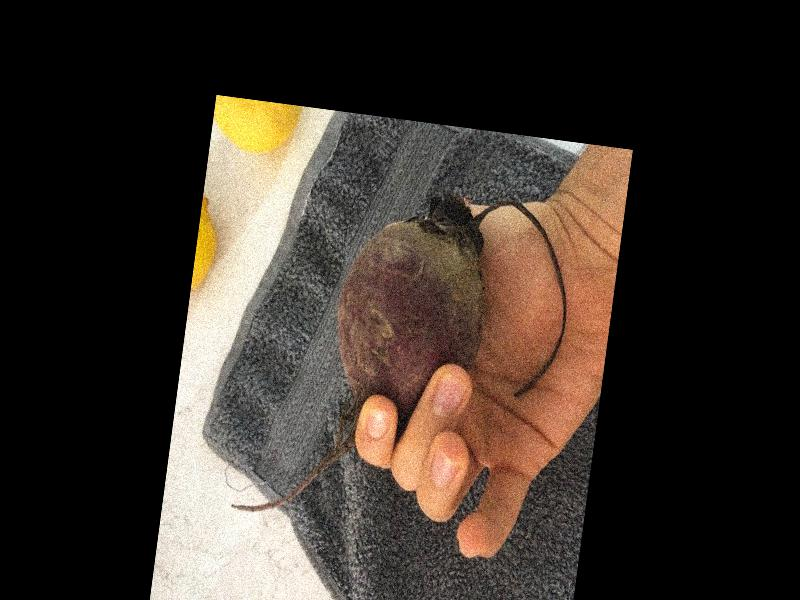Beet: (231, 172, 580, 548)
